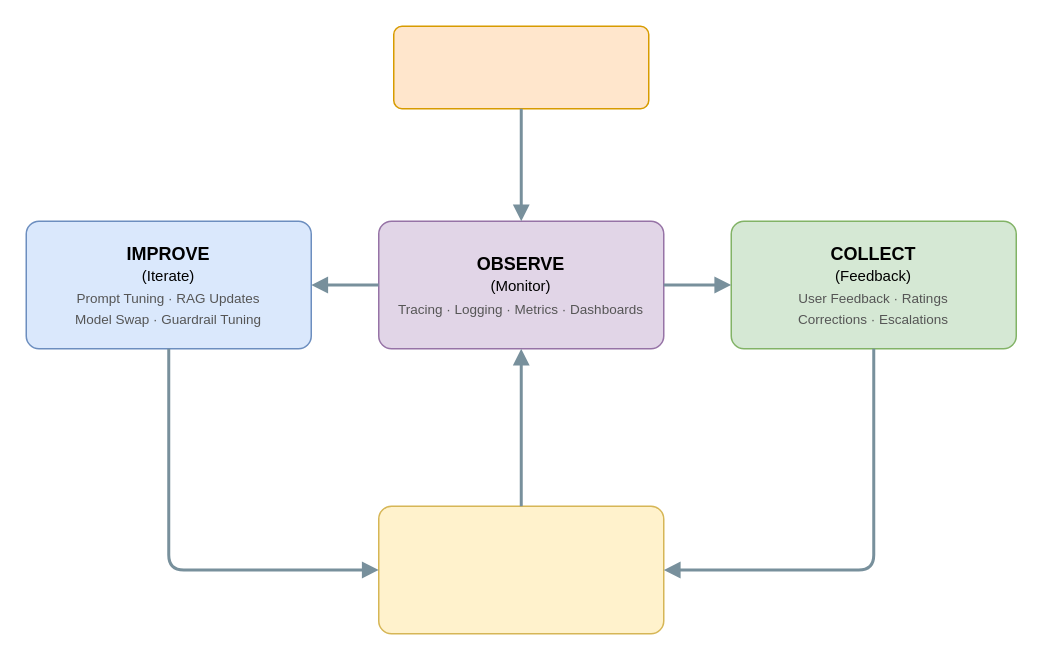
This 1043x660 diagram has some shape labels left out. Each missing label, with the centre of its shape:
"DEPLOY (Ship It)" belongs at point 520,67.
"EVALUATE (Measure) Eval Datasets · Benchmarks A/B Tests · LLM-as-Judge" belongs at point 520,569.
